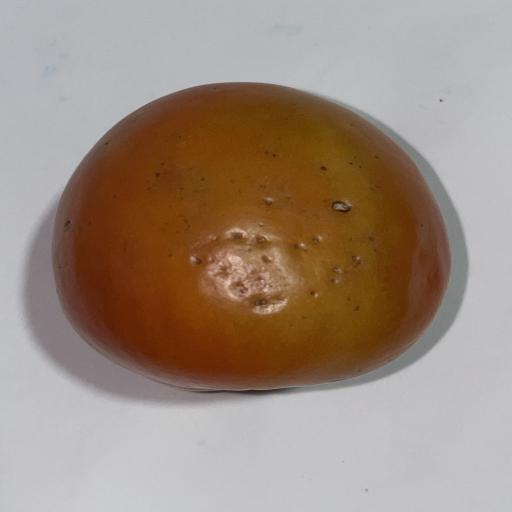overipe: (52, 83, 450, 390)
